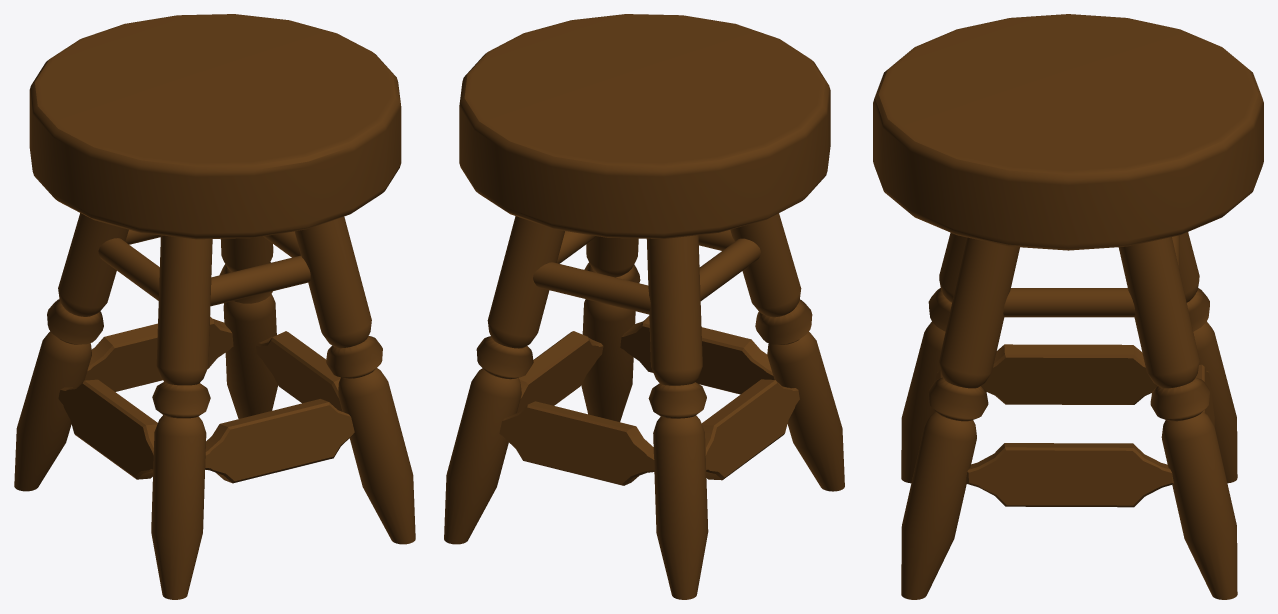
The model's file is Stool2.fbx.
3 views of the same model, side by side, from view 1: azimuth 30°, elevation 25°; view 2: azimuth 150°, elevation 25°; view 3: azimuth 270°, elevation 25° (orthographic). The views are drawn at different scales.
Visible parts, largest first — view 1: pCylinder36, pCylinder37 (×4), pCube51, pCube50, pCube52, pCube49, pCylinder40, pCylinder39, pCylinder38; view 2: pCylinder36, pCylinder37 (×4), pCube52, pCube50, pCube51, pCube49, pCylinder41, pCylinder39, pCylinder38, pCylinder40; view 3: pCylinder36, pCylinder37 (×4), pCube49, pCube50, pCylinder38.
Boxes of the visible parts, box(x1,y1,x2,y2) form: pCylinder36: box(29, 14, 401, 239); pCylinder37 (×4): box(14, 213, 415, 599); pCube51: box(205, 399, 354, 483); pCube50: box(58, 379, 157, 479); pCube52: box(84, 316, 233, 391); pCube49: box(256, 331, 342, 411); pCylinder40: box(210, 255, 310, 306); pCylinder39: box(98, 238, 159, 300); pCylinder38: box(263, 231, 300, 257); pCylinder36: box(459, 14, 830, 238); pCylinder37 (×4): box(444, 213, 844, 599); pCube52: box(499, 401, 654, 485); pCube50: box(701, 379, 799, 480); pCube51: box(620, 316, 774, 394); pCube49: box(517, 331, 603, 412); pCylinder41: box(533, 262, 650, 314); pCylinder39: box(699, 238, 760, 300); pCylinder38: box(557, 231, 596, 263); pCylinder40: box(698, 230, 734, 250); pCylinder36: box(873, 14, 1263, 250); pCylinder37 (×4): box(901, 232, 1237, 599); pCube49: box(966, 443, 1173, 507); pCube50: box(981, 344, 1157, 404); pCylinder38: box(1003, 288, 1135, 317).
Bounding box in the file's own units: 56.44 × 70.64 × 56.44.
